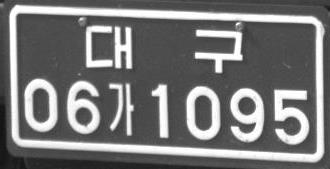0: (23, 78, 58, 132), (186, 85, 221, 139)
1: (147, 84, 179, 139)
5: (272, 87, 310, 145)
6: (65, 80, 101, 133)
9: (228, 87, 265, 142)
가: (107, 82, 134, 135)
대구_D: (85, 23, 243, 74)
